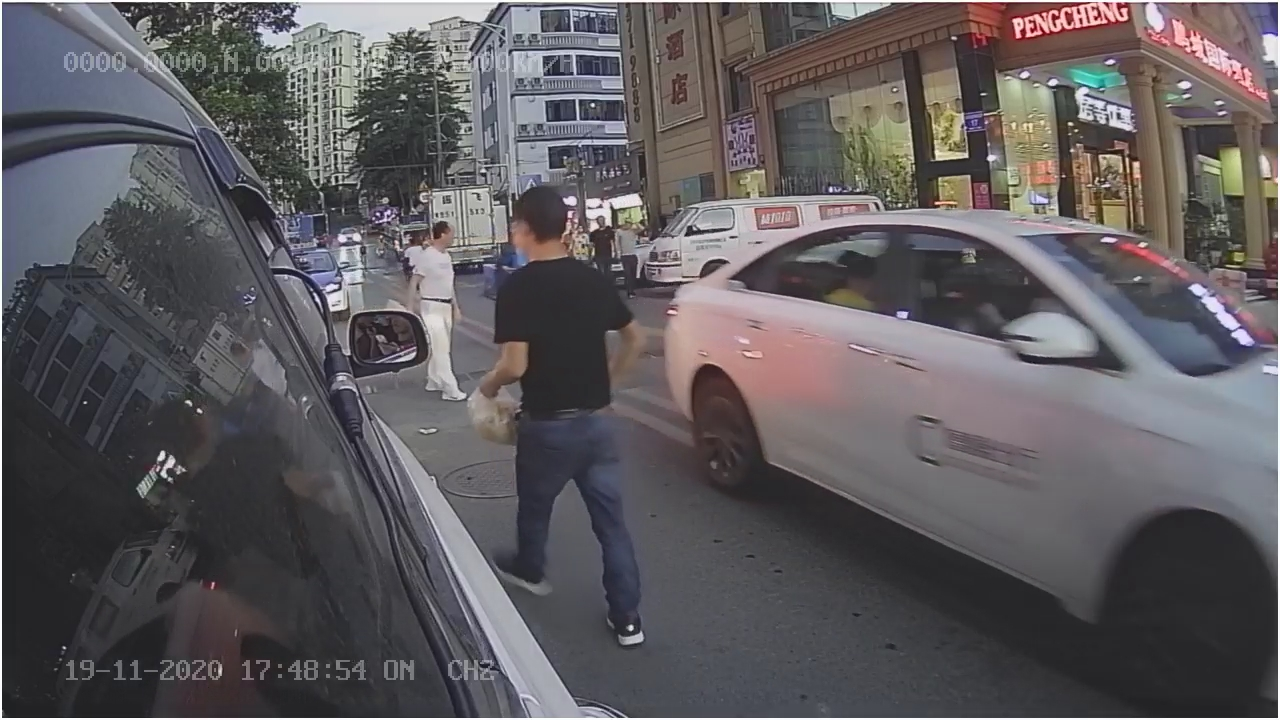person: (487, 183, 652, 572)
